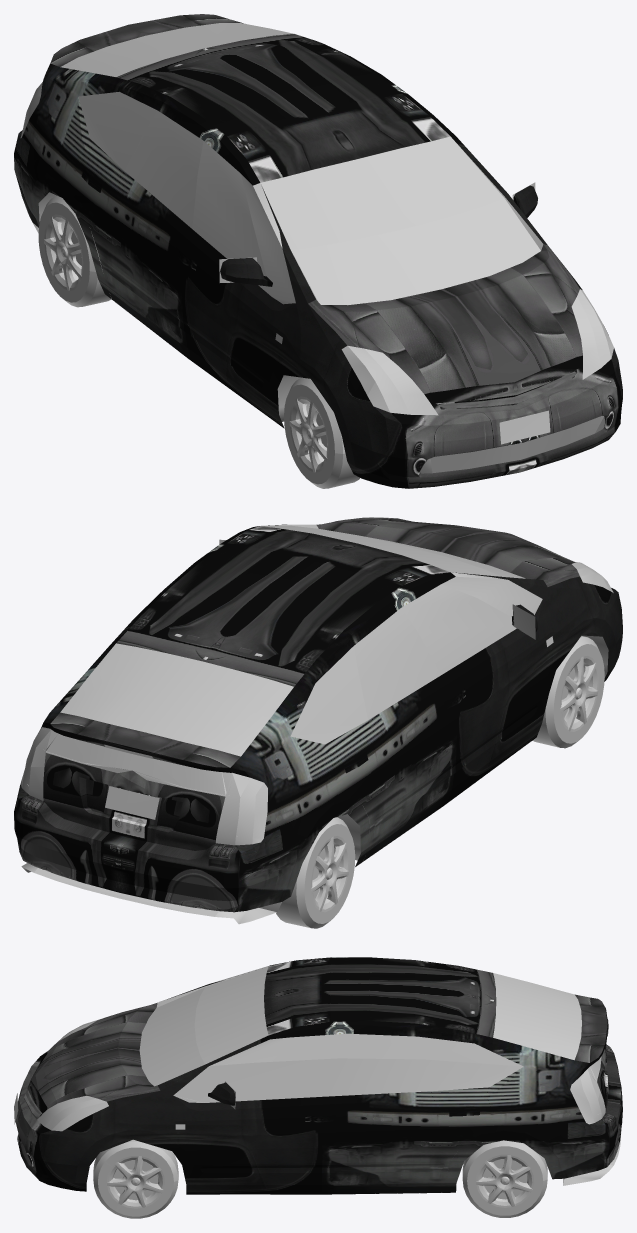
The model's file is prius.fbx.
The picture shows the model from 3 angles, top to bottom: view 1: azimuth 30°, elevation 25°; view 2: azimuth 150°, elevation 25°; view 3: azimuth 270°, elevation 25°; orthographic projection. The views are drawn at different scales.
Visible parts, largest first — view 1: Roof, Tires, Tires.003; view 2: Roof, Tires.003, Tires; view 3: Roof, Tires, Tires.003.
Part boxes in pixels (x1,y1,x2,y2): Roof: [14, 14, 622, 488]; Tires: [284, 377, 359, 488]; Tires.003: [38, 195, 111, 307]; Roof: [14, 517, 622, 924]; Tires.003: [276, 817, 355, 928]; Tires: [532, 636, 604, 748]; Roof: [14, 957, 622, 1194]; Tires: [93, 1139, 178, 1218]; Tires.003: [462, 1140, 547, 1217].
Size of the model in its own units: 199 by 149 by 445.
